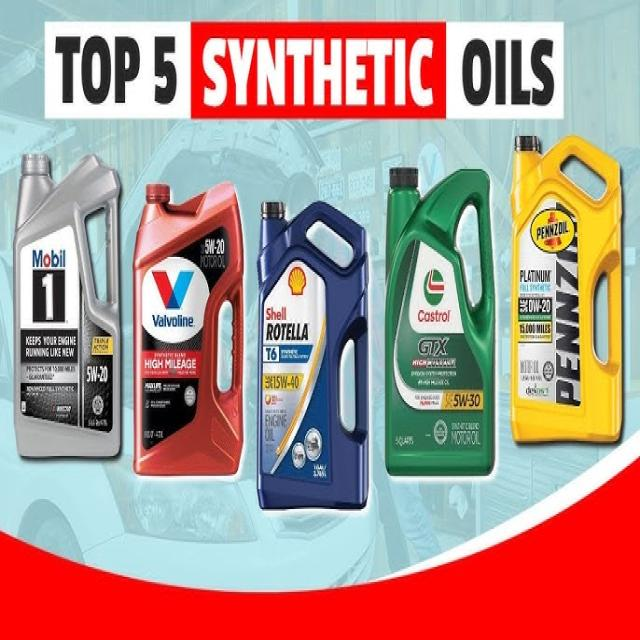motor_oil: (510, 131, 626, 445), (9, 150, 124, 466), (258, 197, 371, 518), (384, 164, 497, 483), (132, 178, 245, 482)
